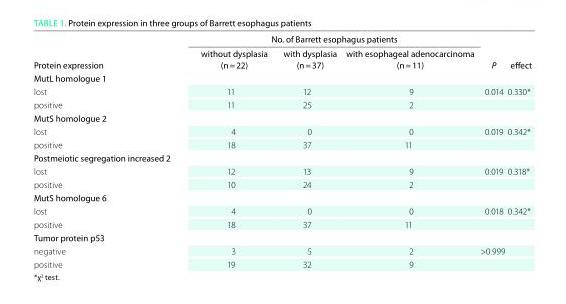table: (32, 32, 531, 269)
table column: (32, 32, 184, 269), (340, 32, 476, 269), (184, 32, 274, 269), (274, 32, 340, 269), (476, 32, 505, 269), (505, 32, 531, 269)
table column header: (32, 32, 531, 70)
table projected row header: (32, 70, 531, 84), (32, 110, 531, 124), (32, 150, 531, 164), (32, 190, 531, 203), (32, 230, 531, 243)
table row: (32, 45, 531, 70), (32, 70, 531, 84), (32, 110, 531, 124), (32, 150, 531, 164), (32, 203, 531, 217), (32, 32, 531, 45), (32, 84, 531, 97), (32, 97, 531, 110), (32, 124, 531, 137), (32, 137, 531, 150), (32, 164, 531, 177), (32, 177, 531, 190), (32, 190, 531, 203), (32, 217, 531, 230), (32, 230, 531, 243), (32, 243, 531, 256), (32, 256, 531, 269)
table spanning cell: (32, 32, 184, 70), (184, 32, 476, 45), (476, 32, 505, 70), (505, 32, 531, 70)
